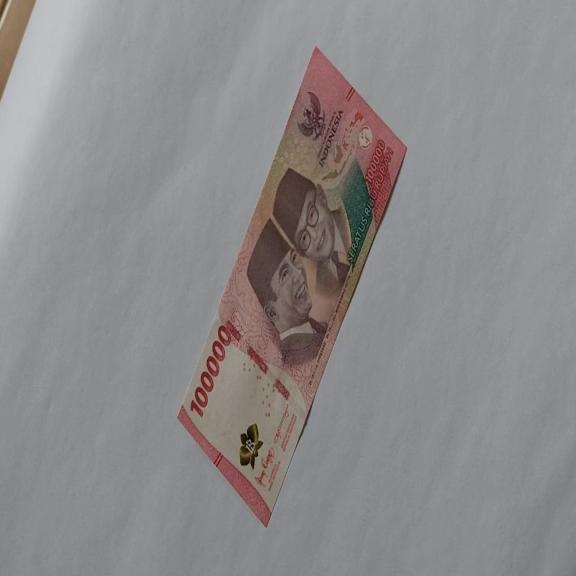Kertas: (176, 44, 408, 527), (189, 323, 232, 419)
